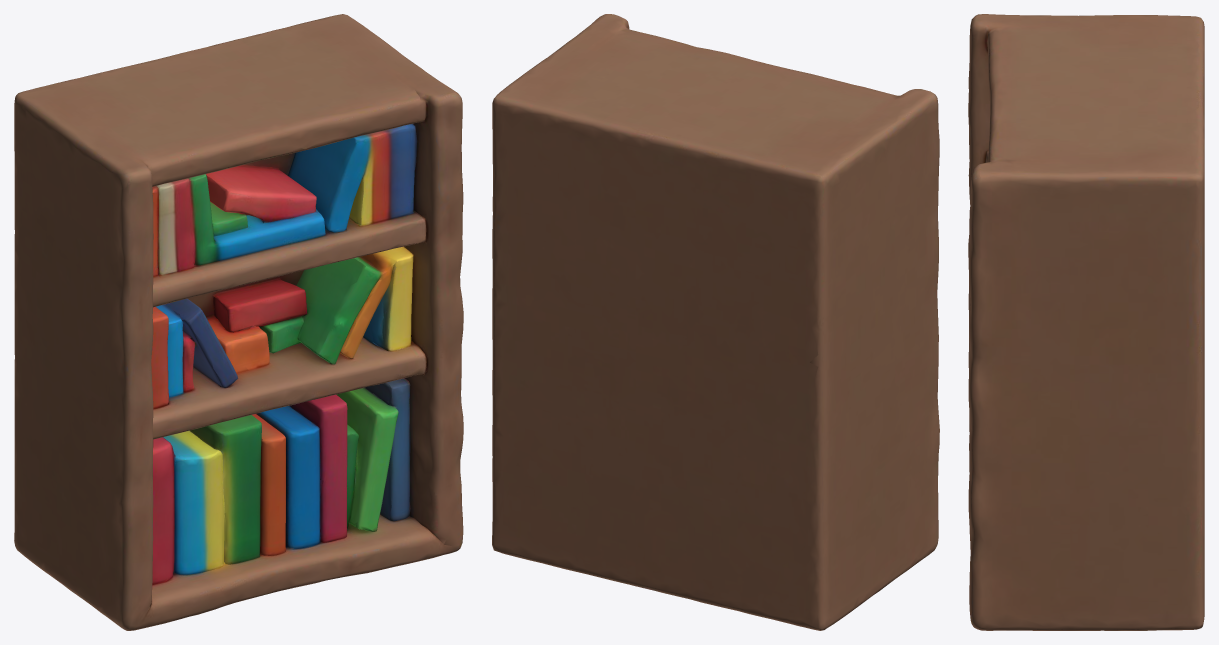
Rendered from bookshelf.glb.
3 views of the same model, side by side, from view 1: azimuth 30°, elevation 25°; view 2: azimuth 150°, elevation 25°; view 3: azimuth 270°, elevation 25° (orthographic).
Visible parts, largest first — view 1: Mesh; view 2: Mesh; view 3: Mesh.
Boxes of the visible parts, left/top/right/bottom form: Mesh: left=14, top=14, right=463, bottom=630; Mesh: left=492, top=14, right=939, bottom=630; Mesh: left=968, top=14, right=1204, bottom=630.
Size of the model in its own units: 1.47 by 1.9 by 0.8867.
Materials: 1 (1 with a texture image).
